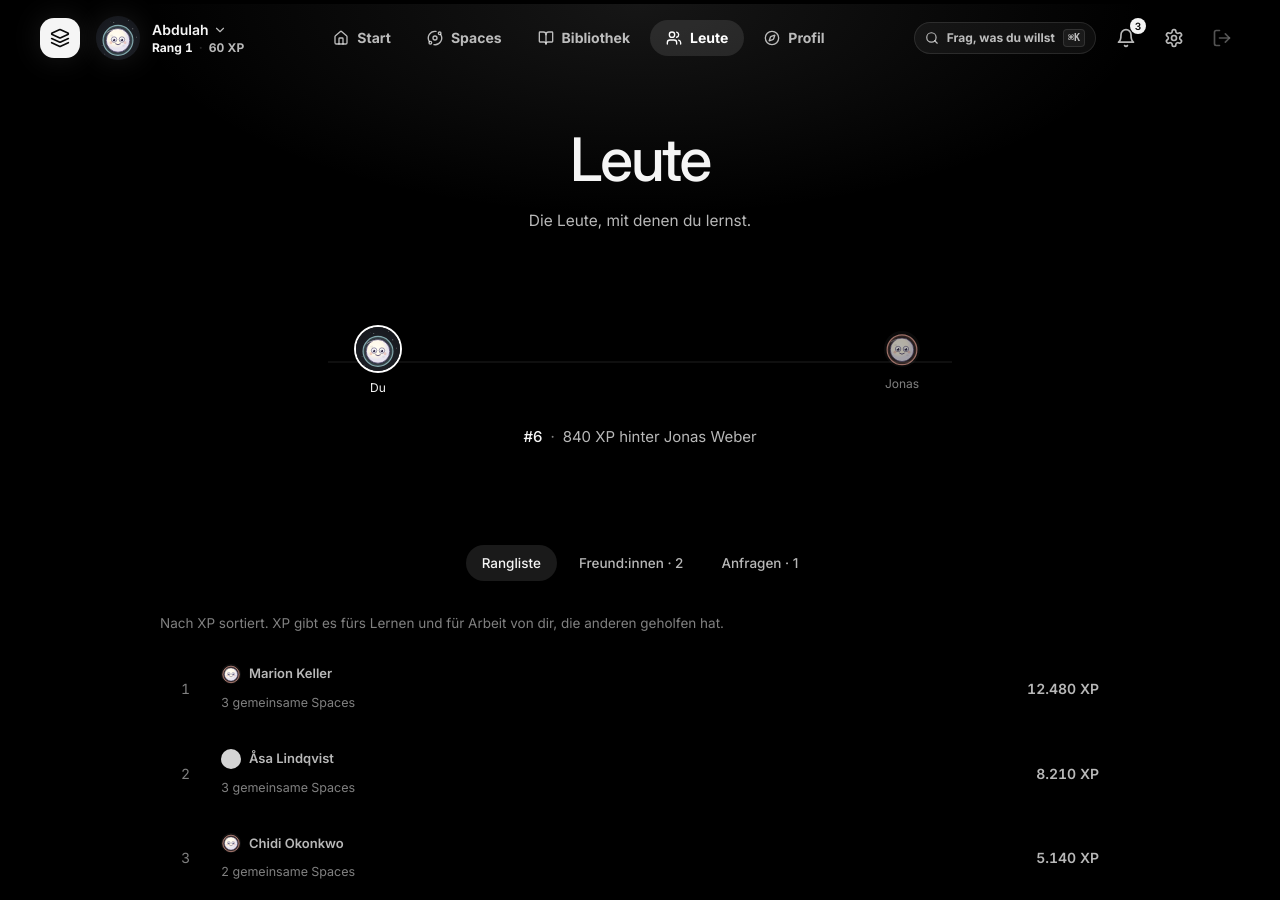
Social, in German › friends
Step 1. Click the tab "Freund:innen · 2" → (631, 563), box [563,545,699,581]
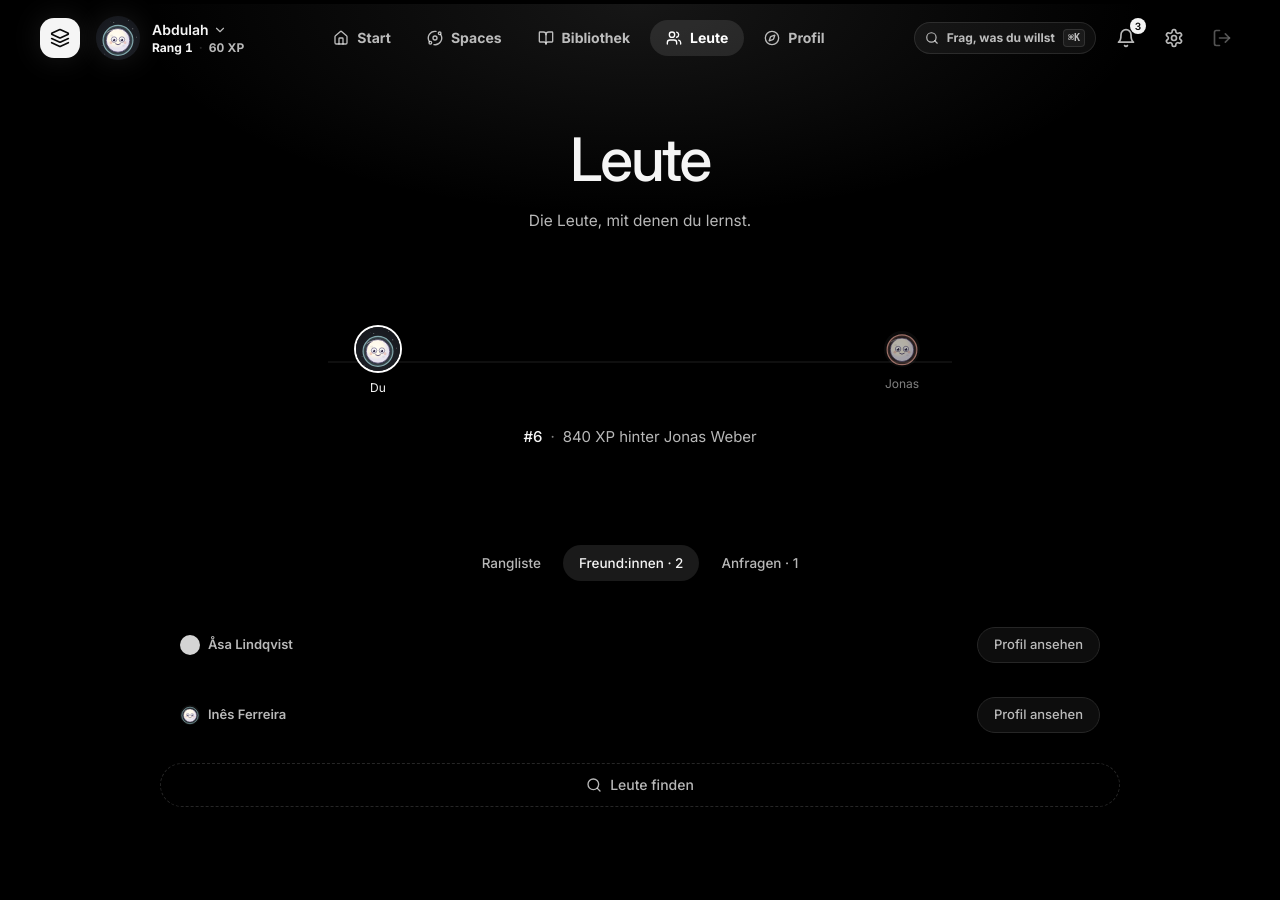
Now the link "Profil ansehen" in the row of "Åsa Lindqvist" is shown, box [977,627,1100,663]
Now the button "Leute finden" is shown, box [160,763,1120,807]
